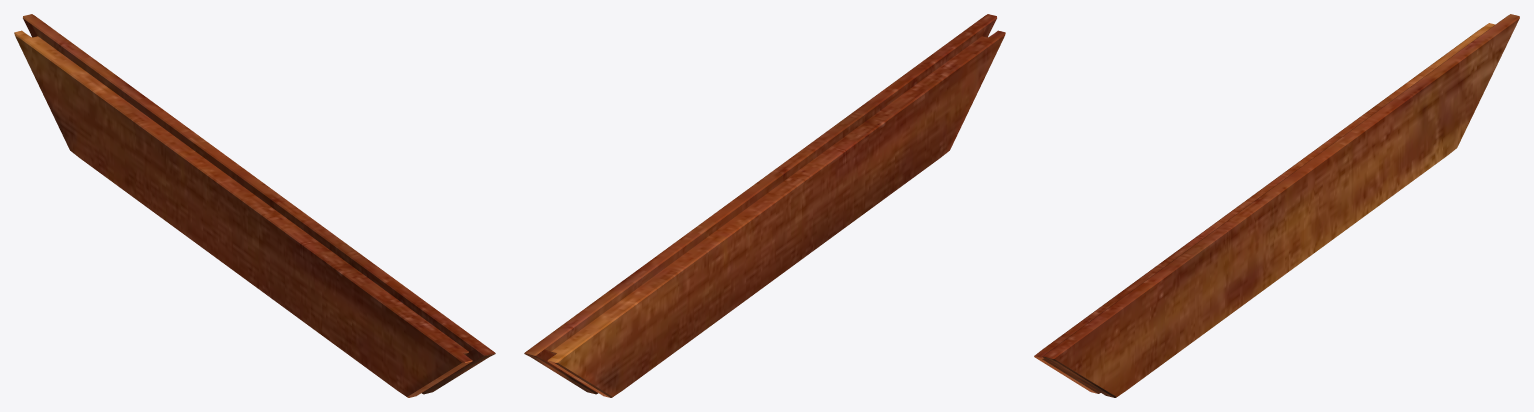
File: SJ_J_yatiao_02.FBX
3 renders of one model, left to right at view 1: azimuth 30°, elevation 25°; view 2: azimuth 150°, elevation 25°; view 3: azimuth 330°, elevation 25°, orthographic.
Visible parts, largest first — view 1: SJ_J_yatiao_02; view 2: SJ_J_yatiao_02; view 3: SJ_J_yatiao_02.
Boxes of the visible parts, left/top/right/bottom form: SJ_J_yatiao_02: left=14, top=14, right=495, bottom=397; SJ_J_yatiao_02: left=524, top=14, right=1005, bottom=397; SJ_J_yatiao_02: left=1034, top=14, right=1519, bottom=397.
Size of the model in its own units: 1.2 by 3.7 by 36.39.
Materials: 2 (2 with a texture image).
